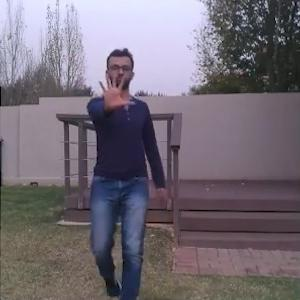follow_hand: (97, 71, 136, 111)
